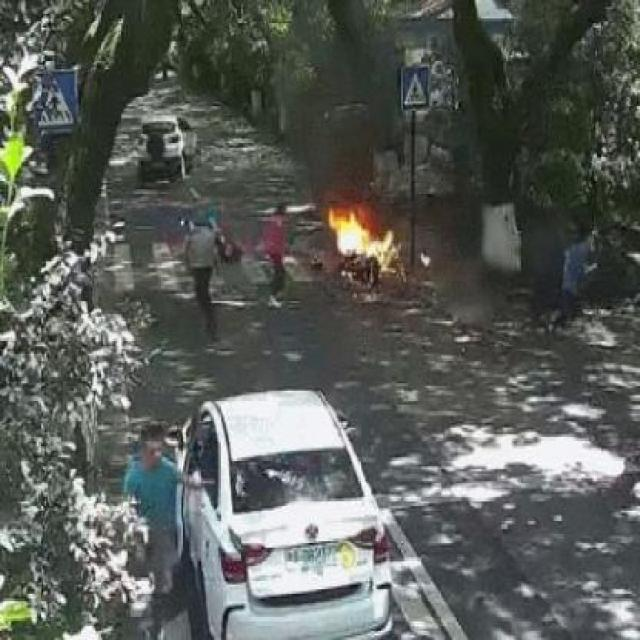Fire: (328, 208, 394, 262)
Smoke: (296, 68, 392, 214)
